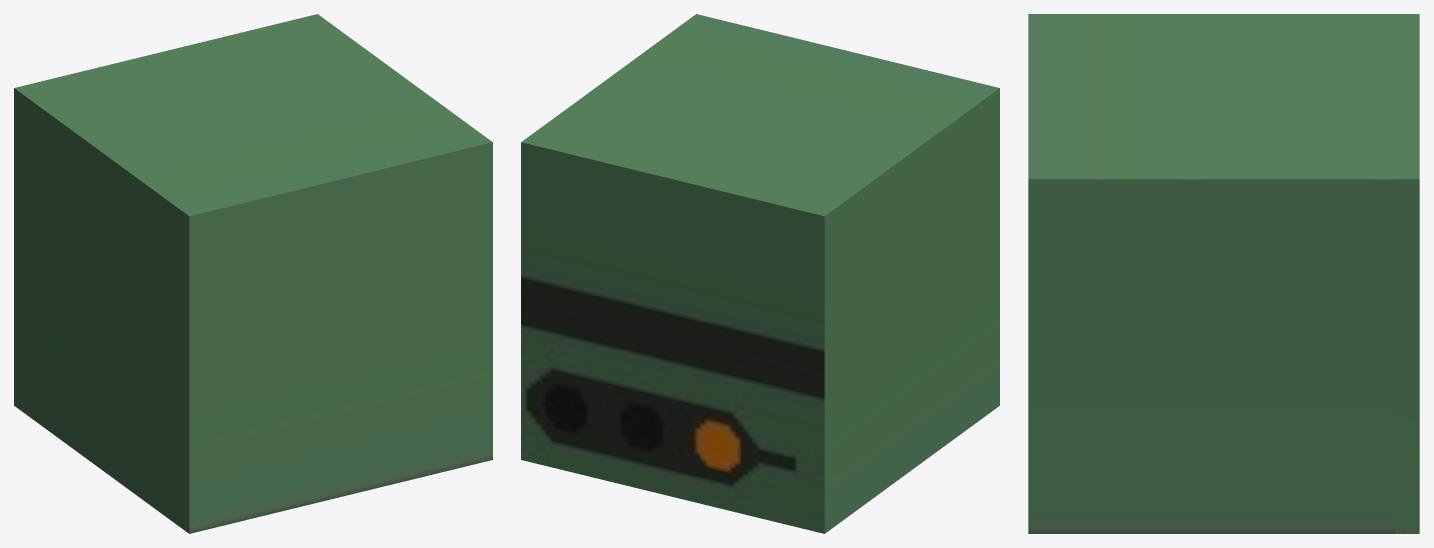
File: hsighleft.obj
3 renders of one model, left to right at view 1: azimuth 30°, elevation 25°; view 2: azimuth 150°, elevation 25°; view 3: azimuth 270°, elevation 25°, orthographic. The views are drawn at different scales.
Visible parts, largest first — view 1: generalCube, orange; view 2: orange, generalCube; view 3: generalCube, orange.
Part boxes in pixels (x1,y1,x2,y2): generalCube: [19, 18, 492, 533]; orange: [14, 14, 327, 413]; orange: [521, 134, 835, 533]; generalCube: [529, 14, 999, 525]; generalCube: [1028, 14, 1407, 533]; orange: [1395, 14, 1419, 533].
Bounding box in the file's own units: 1 × 1 × 1.
